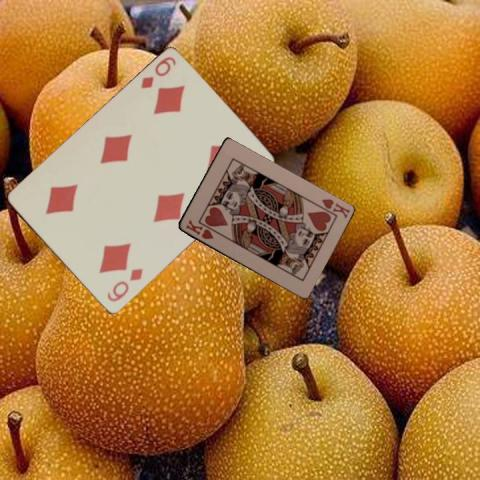6d: (104, 265, 145, 304), (138, 54, 178, 91)
Kh: (318, 196, 351, 220), (182, 217, 214, 241)
